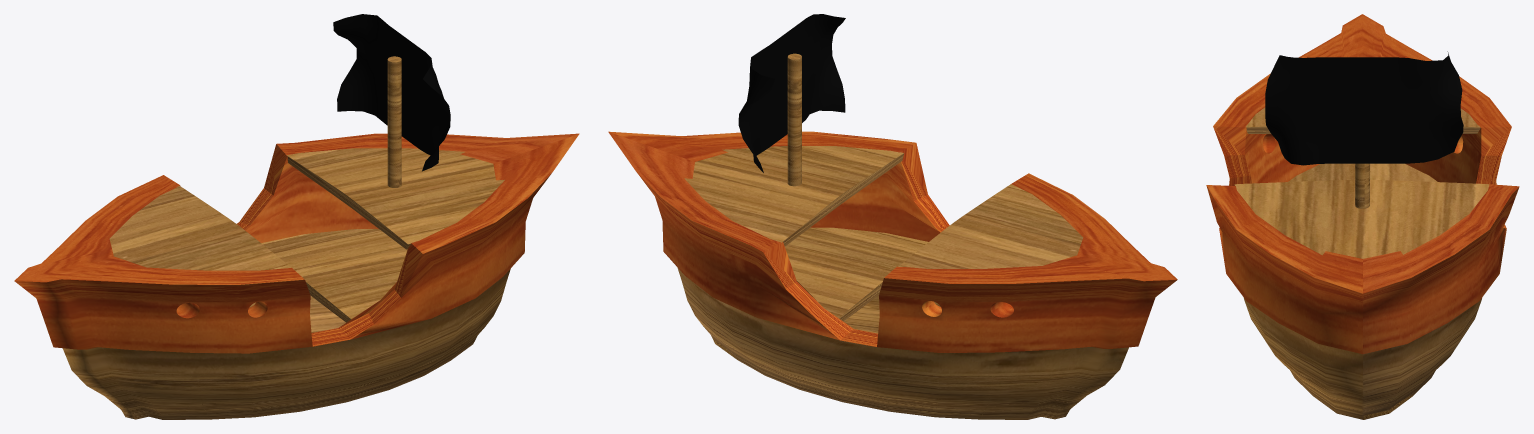
Rendered from Ship ver 3.fbx.
The picture shows the model from 3 angles, left to right: view 1: azimuth 30°, elevation 25°; view 2: azimuth 150°, elevation 25°; view 3: azimuth 270°, elevation 25°; orthographic projection. The views are drawn at different scales.
Parts seen in each view (by area): view 1: pPipe2, pCylinder7, pPlane1, pCylinder6, pCylinder4; view 2: pPipe2, pCylinder7, pPlane1, pCylinder6, pCylinder4; view 3: pPipe2, pPlane1, pCylinder7, pCylinder6, pCylinder4.
Boxes of the visible parts, x1=… form: pPipe2: x1=14, y1=133, x2=579, y2=419; pCylinder7: x1=109, y1=148, x2=504, y2=270; pPlane1: x1=333, y1=14, x2=450, y2=171; pCylinder6: x1=261, y1=229, x2=407, y2=322; pCylinder4: x1=387, y1=56, x2=401, y2=187; pPipe2: x1=608, y1=131, x2=1177, y2=419; pCylinder7: x1=684, y1=146, x2=1083, y2=268; pPlane1: x1=738, y1=14, x2=845, y2=172; pCylinder6: x1=785, y1=227, x2=928, y2=321; pCylinder4: x1=787, y1=53, x2=801, y2=186; pPipe2: x1=1206, y1=14, x2=1519, y2=419; pPlane1: x1=1265, y1=51, x2=1463, y2=165; pCylinder7: x1=1234, y1=107, x2=1489, y2=258; pCylinder6: x1=1288, y1=163, x2=1437, y2=181; pCylinder4: x1=1355, y1=163, x2=1369, y2=208.
Size of the model in its own units: 81.8 by 43.16 by 37.43.
